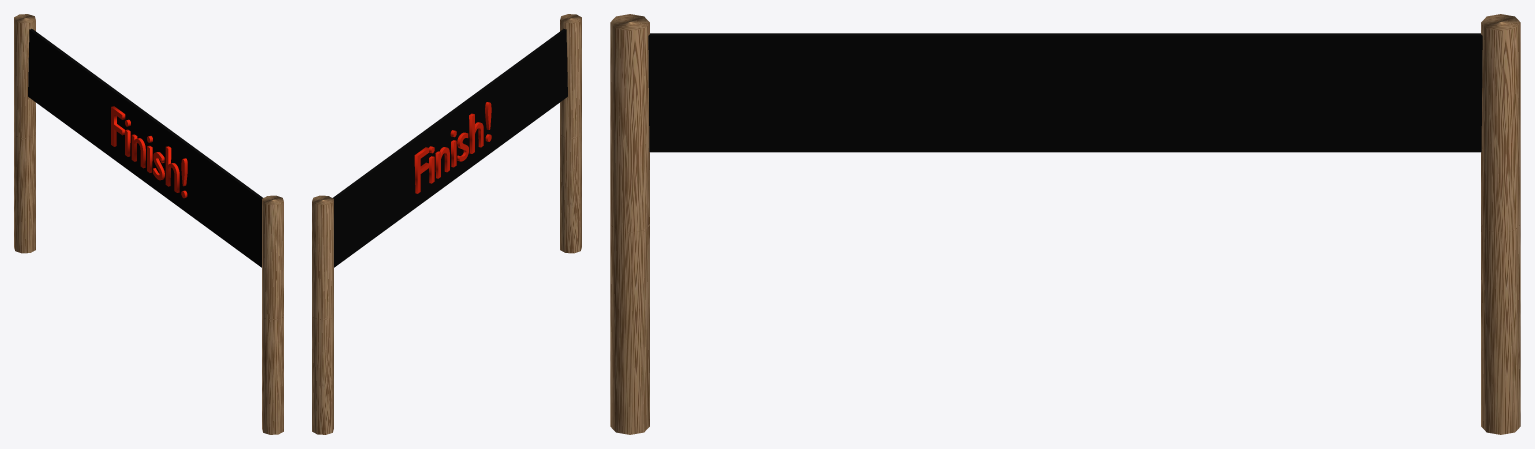
Rendered from finish_line (4).fbx.
The picture shows the model from 3 angles, left to right: view 1: azimuth 30°, elevation 25°; view 2: azimuth 150°, elevation 25°; view 3: azimuth 270°, elevation 25°; orthographic projection. The views are drawn at different scales.
Visible parts, largest first — view 1: Cube.001, Cylinder.001, Cylinder, Text; view 2: Cube.001, Cylinder, Cylinder.001, Text; view 3: Cube.001, Cylinder, Cylinder.001.
Boxes of the visible parts, x1,y1,x2,y2 form: Cube.001: (28, 29, 262, 267); Cylinder.001: (262, 195, 283, 434); Cylinder: (14, 14, 35, 253); Text: (111, 106, 187, 198); Cube.001: (333, 29, 567, 267); Cylinder: (312, 195, 333, 434); Cylinder.001: (560, 14, 581, 253); Text: (414, 102, 491, 193); Cube.001: (648, 33, 1482, 152); Cylinder: (1481, 14, 1520, 434); Cylinder.001: (610, 14, 649, 434).
Bounding box in the file's own units: 109 × 1229 × 2509.
3 materials, 1 textured.
